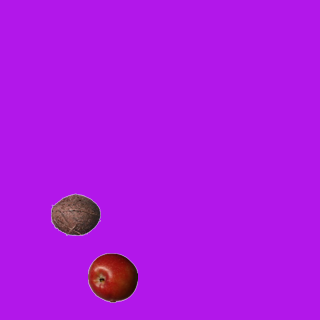Apple Braeburn: (87, 252, 137, 302)
Cocos: (50, 189, 100, 239)
